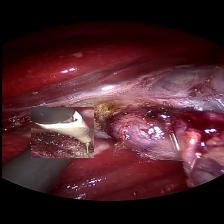Hook: (30, 107, 93, 158)
